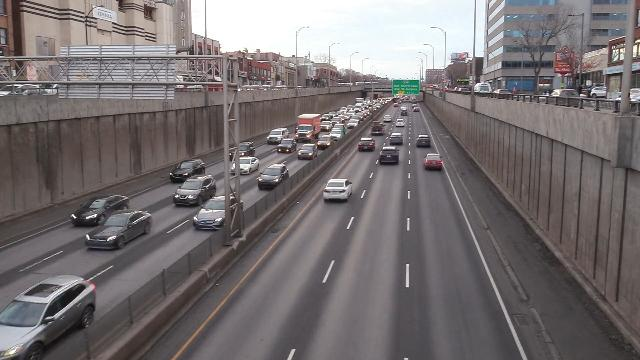car: (0, 273, 98, 359), (84, 209, 152, 251), (70, 194, 132, 227), (193, 196, 244, 232), (173, 175, 218, 208), (170, 158, 205, 183), (322, 177, 354, 204), (259, 164, 289, 190), (229, 140, 256, 163), (230, 156, 261, 176), (266, 127, 289, 145), (378, 146, 399, 164), (278, 137, 297, 155), (298, 143, 317, 161), (423, 153, 443, 169), (358, 137, 375, 152), (416, 134, 430, 148), (389, 132, 404, 145), (318, 135, 331, 150), (335, 125, 348, 136), (330, 129, 343, 139), (321, 121, 330, 132), (394, 119, 405, 127), (332, 117, 341, 126), (356, 112, 364, 122), (351, 115, 361, 123), (348, 120, 357, 127), (339, 107, 348, 113), (342, 113, 349, 120), (337, 115, 344, 122), (322, 115, 330, 121), (401, 110, 409, 116), (383, 116, 392, 121), (413, 106, 420, 112), (347, 105, 353, 111), (348, 110, 354, 116), (361, 111, 367, 117), (336, 111, 343, 116), (329, 111, 336, 116), (394, 102, 399, 107)
pickup-truck: (370, 121, 384, 135)
truck: (295, 112, 322, 143), (355, 102, 364, 113)
